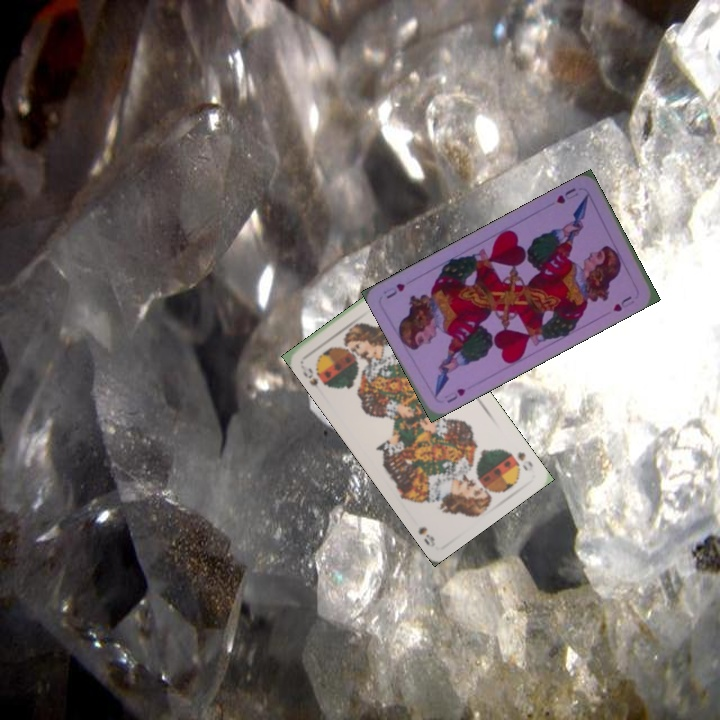HU: (552, 184, 581, 207), (440, 384, 468, 406)
SO: (298, 364, 331, 396), (514, 448, 536, 474)
